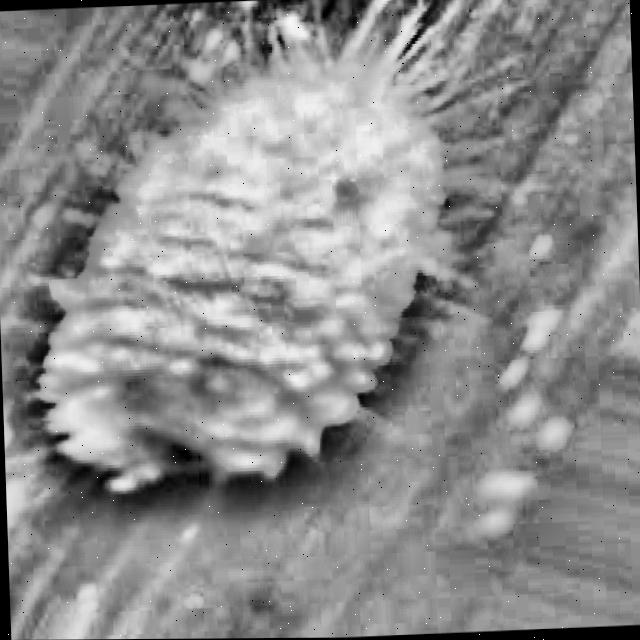Mealy-bug: (0, 0, 552, 640)
